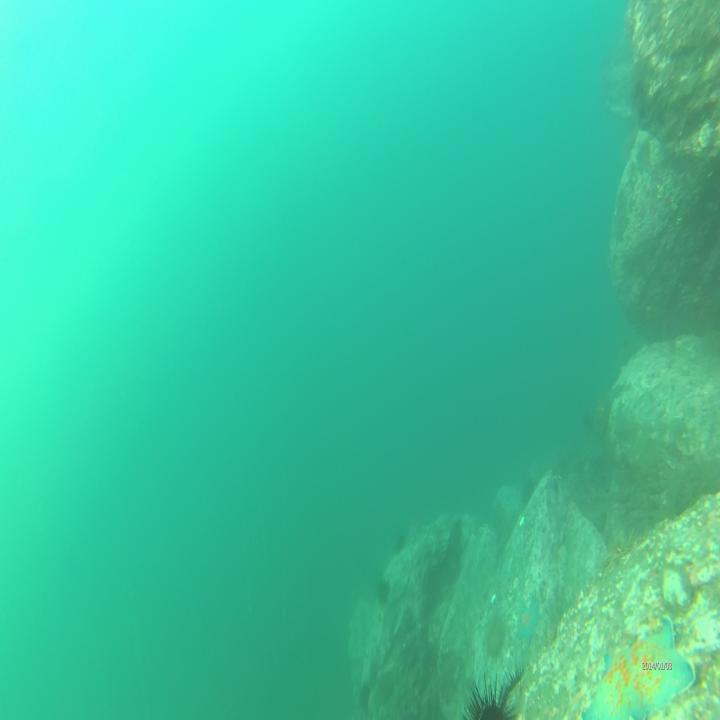echinus: (458, 678, 514, 720), (492, 666, 526, 711), (522, 474, 539, 505), (375, 576, 388, 601), (391, 534, 404, 551)
starfish: (579, 613, 698, 720), (511, 599, 540, 640)
